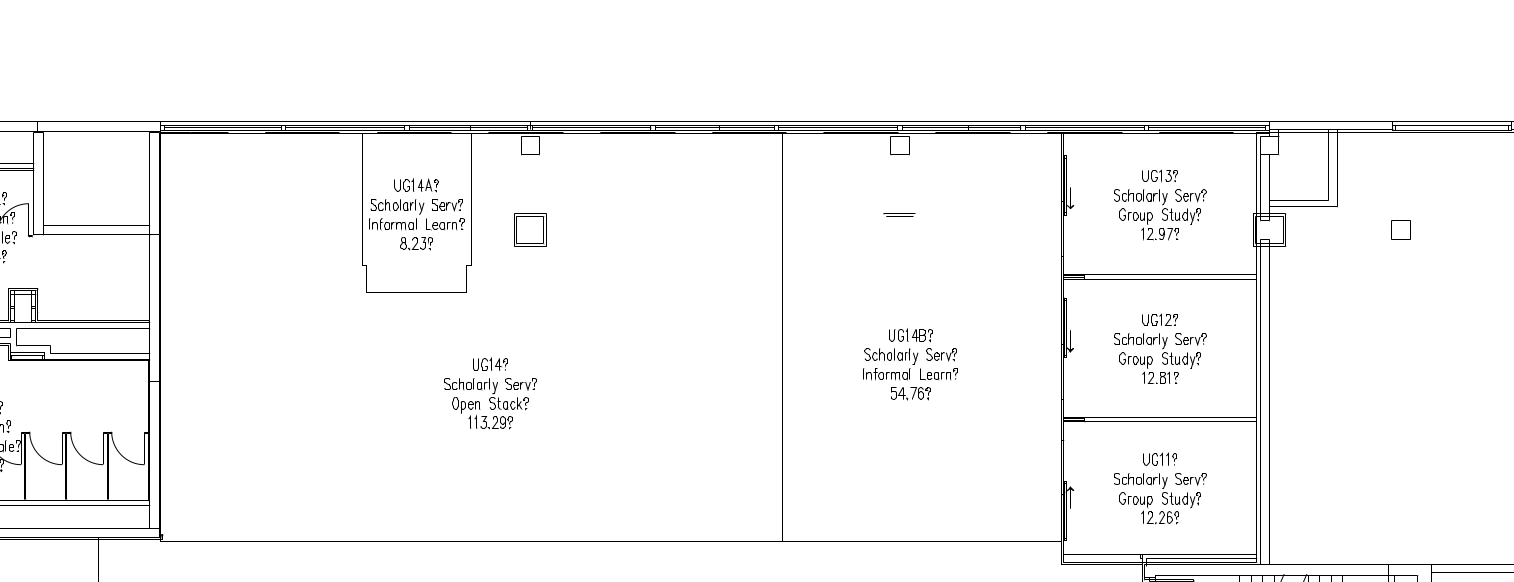door: (109, 419, 146, 481), (67, 423, 104, 485), (25, 421, 62, 483)
